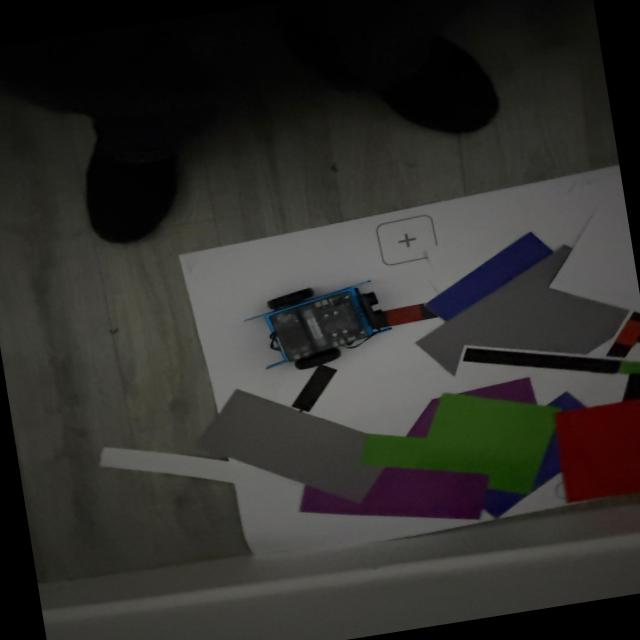mbot-detection: (234, 272, 400, 382)
